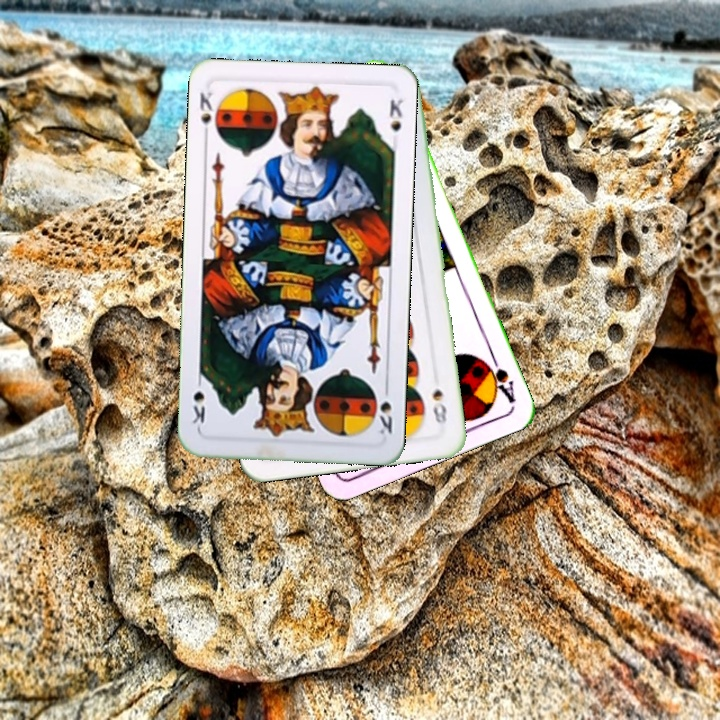S8: (428, 384, 449, 427)
SA: (478, 349, 519, 406)
SK: (375, 380, 395, 437), (195, 88, 216, 142)
